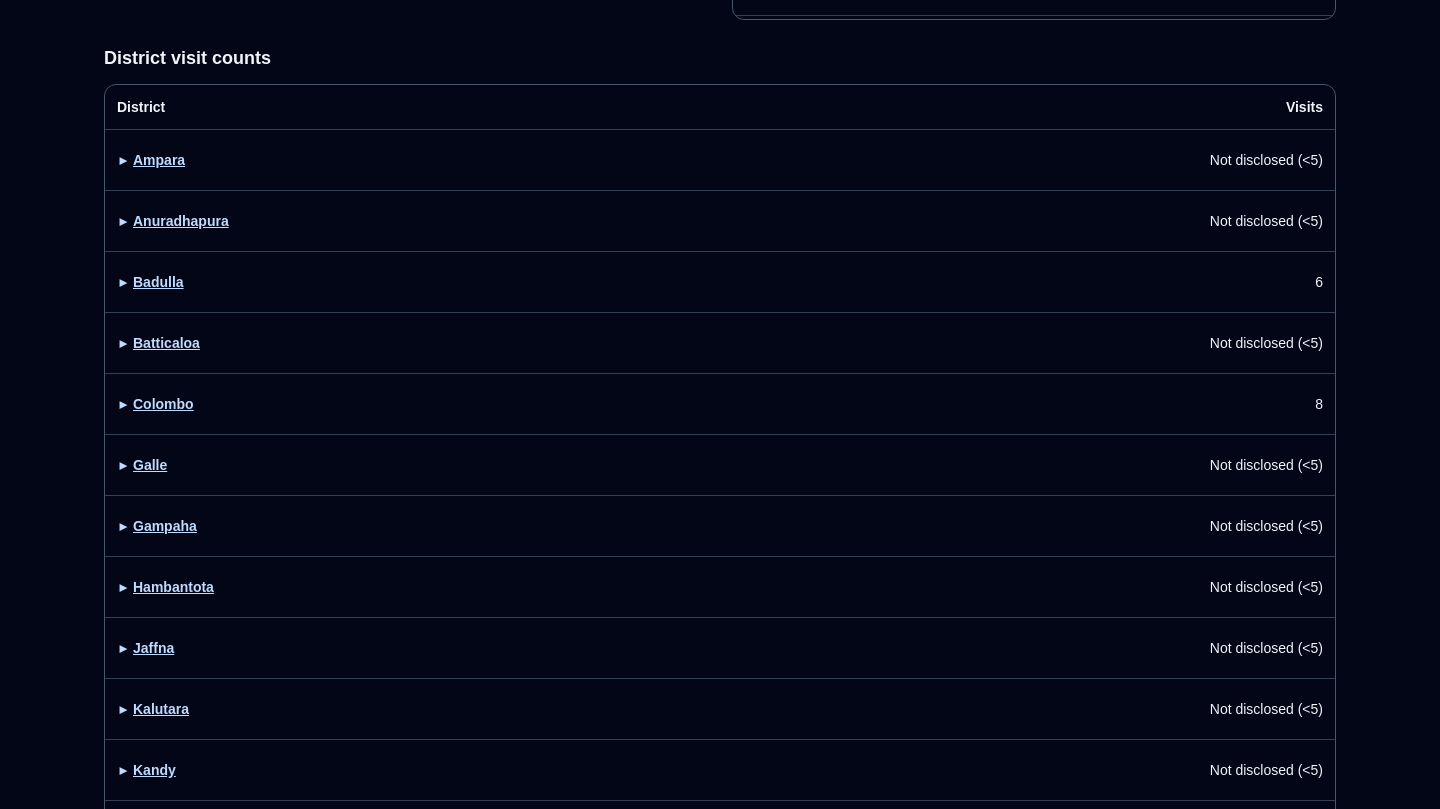
Scenario: suppression: counts below 5 show "<5"; a district under 5 verified cases is "Not disclosed (<5)"; no ids
(page scrolled)
Click the button "▸ Colombo". click: (155, 404)
box: [113,382,198,426]
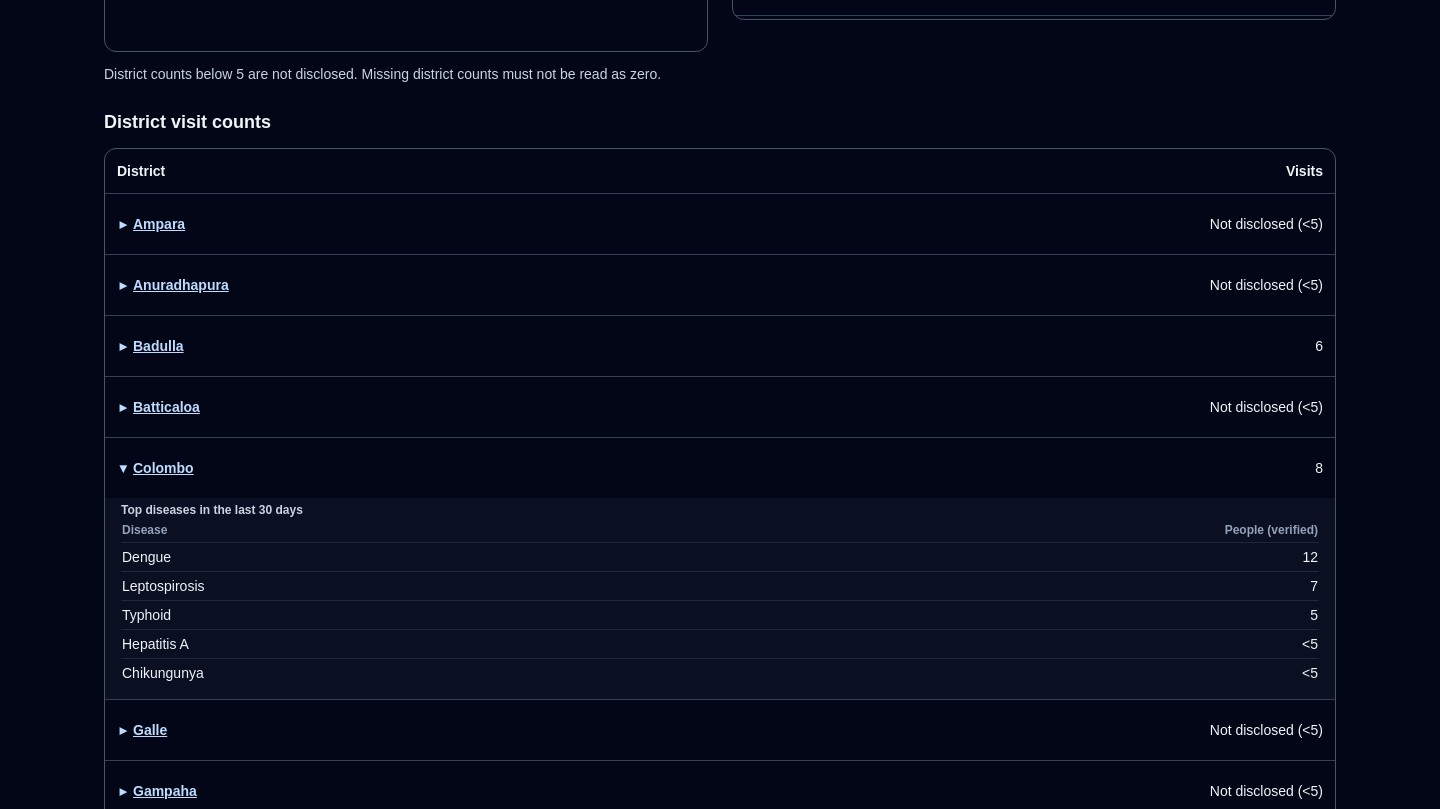
Expected: the row with test id "district-drilldown-row" does not show "Measles", [105,498,1335,700]
Now the elements with test id "drilldown-count" read "12", "7", "5", "<5", "<5", in this order, box [684,542,1319,572]; [684,572,1319,600]; [684,600,1319,630]; [684,630,1319,658]; [684,658,1319,687]
Click the button "▸ Badulla". click: (150, 346)
box: [113,324,188,368]
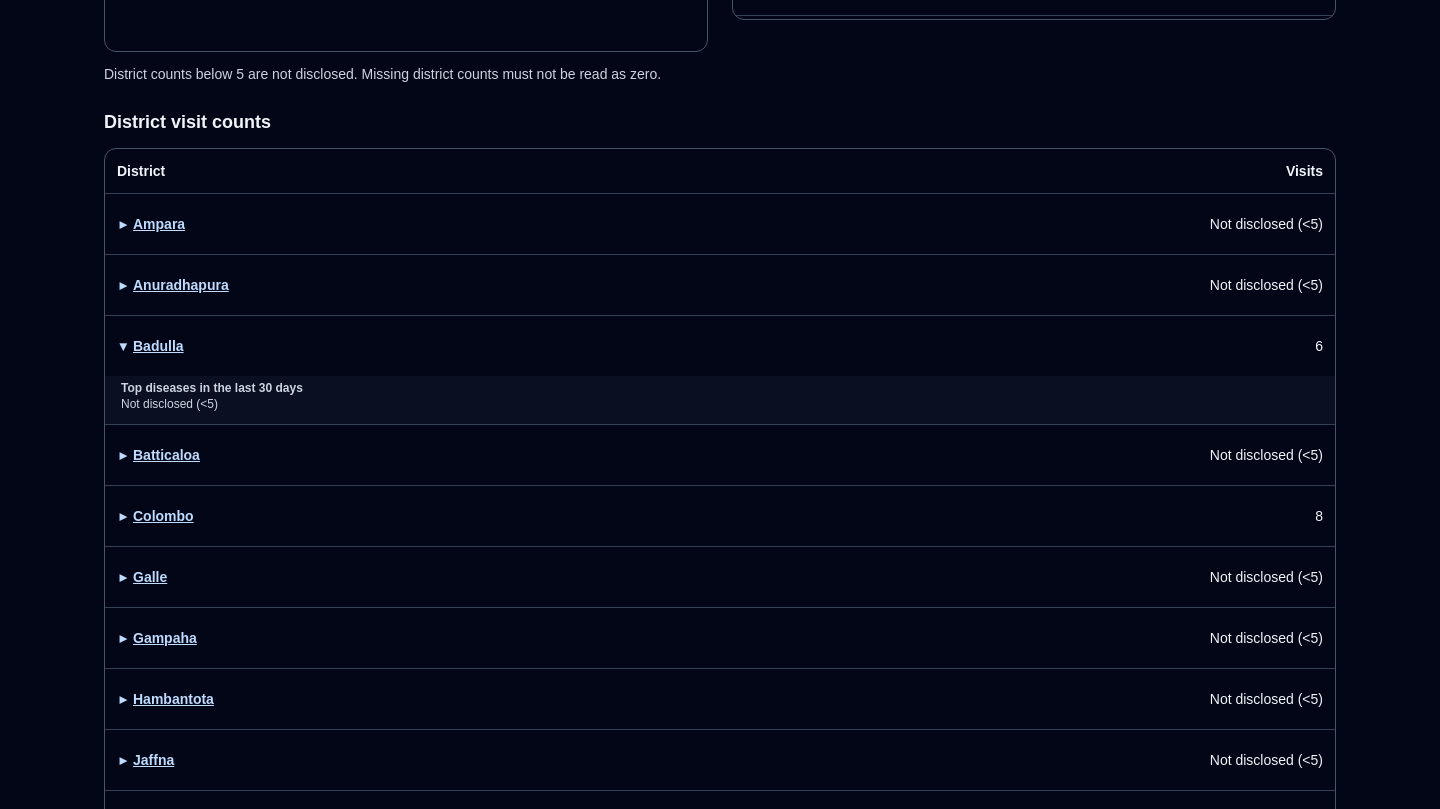
Now the text with test id "drilldown-not-disclosed" reads "Not disclosed (<5)", box [121,397,218,411]
